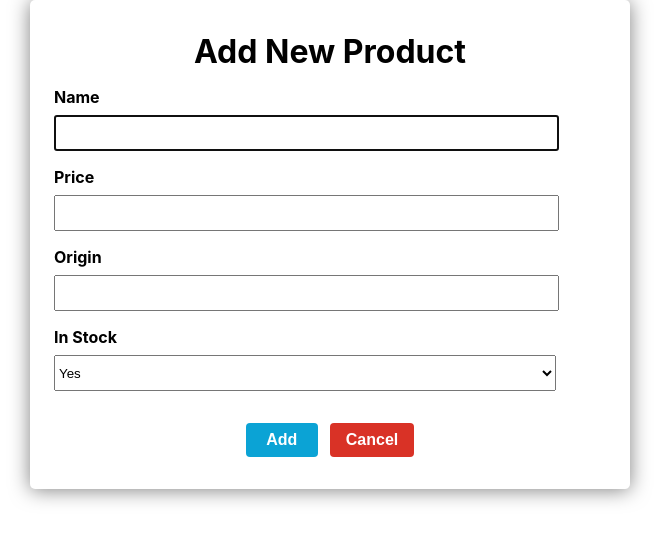
Test case: New Product › should validate price
Type "test" into the field named "name" at (306, 133), box [54,115,559,151]
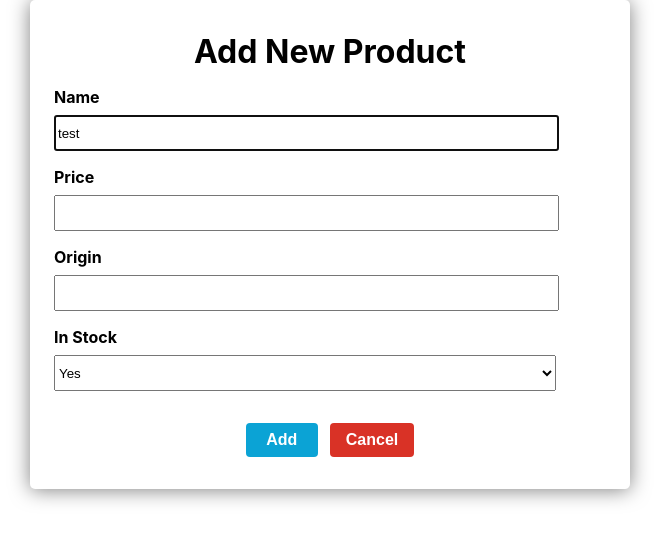
Type "12.1a" into the field named "price" at (306, 213), box [54,195,559,231]
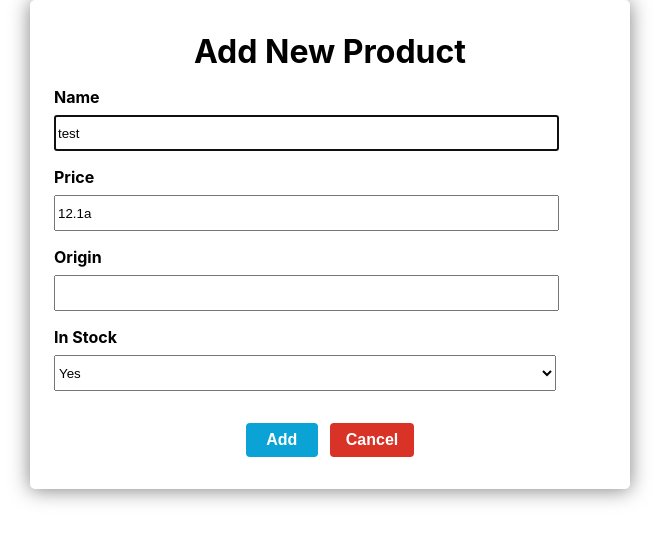
Type "US" into the field named "origin" at (306, 293), box [54,275,559,311]
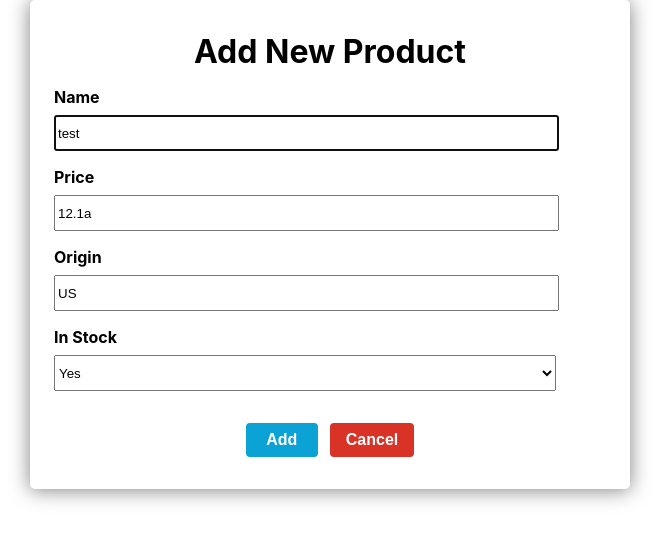
Click the button "Add" at (282, 440), box [246,423,318,457]
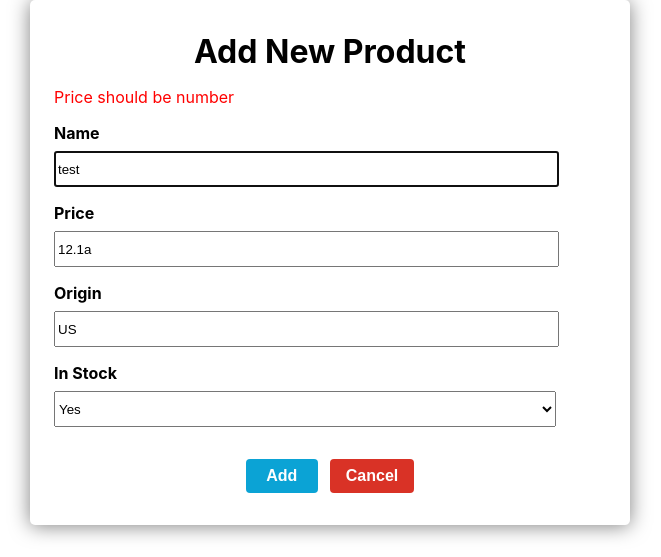
Expected: the text "Price should be number" is shown, [54,87,234,107]
